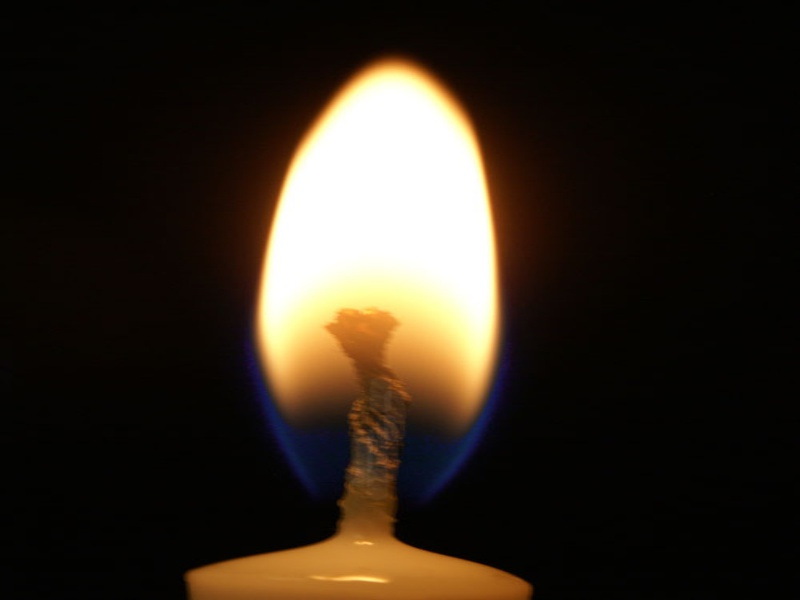fire: (252, 61, 499, 427)
